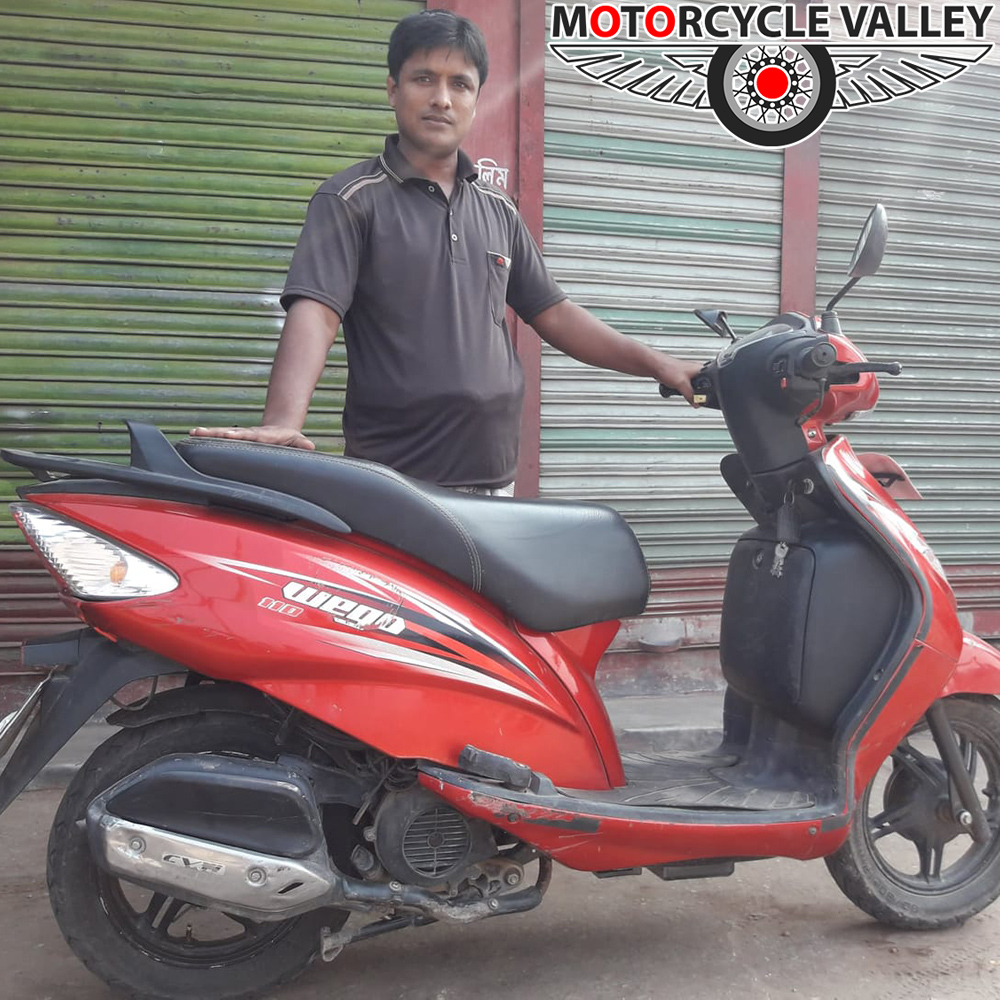scooter: (1, 210, 999, 996)
